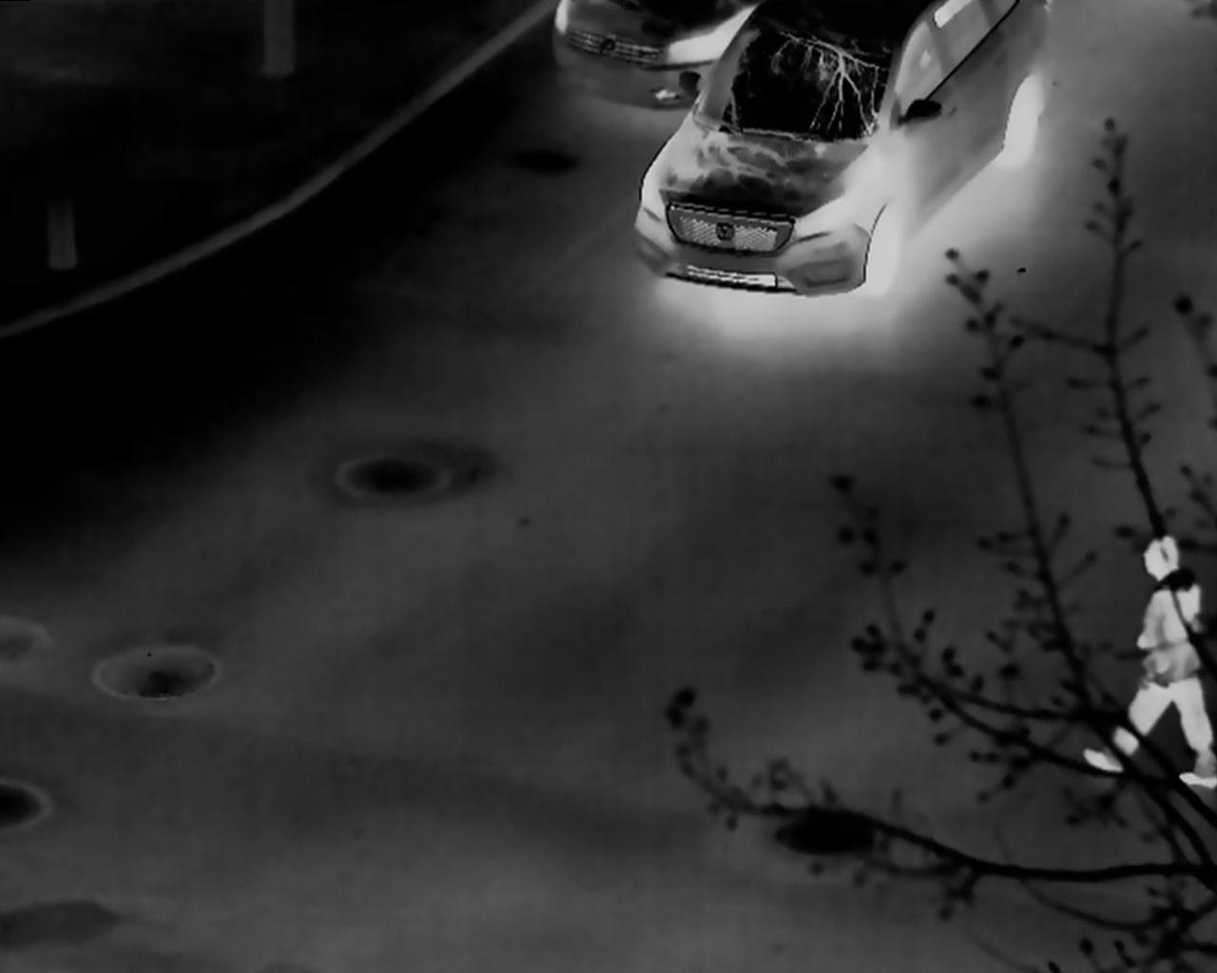person: (1082, 534, 1217, 790)
